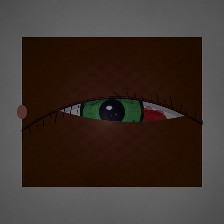hemorrhage_spot: (114, 95, 175, 145)
